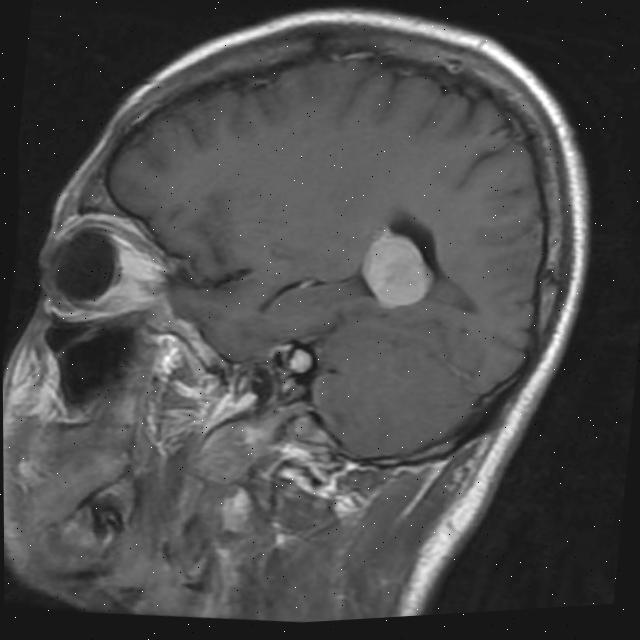Meningioma: (352, 218, 440, 317)
Pituitary: (286, 342, 317, 379)
